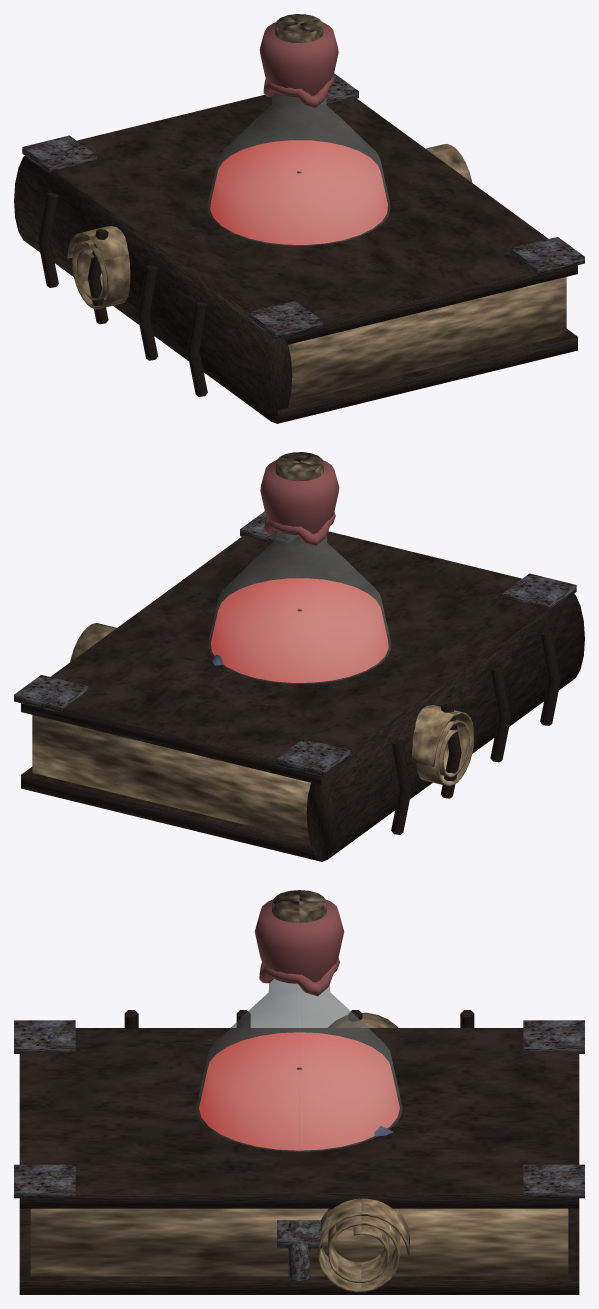
Rendered from items_misc.glb.
3 views of the same model, one above another, from view 1: azimuth 30°, elevation 25°; view 2: azimuth 150°, elevation 25°; view 3: azimuth 270°, elevation 25° (orthographic). The views are drawn at different scales.
Parts seen in each view (by area): view 1: misc_book, misc_potion, misc_manapotion, misc_portal; view 2: misc_book, misc_potion, misc_manapotion, misc_portal; view 3: misc_book, misc_potion, misc_manapotion, misc_portal.
Boxes of the visible parts, x1,y1,x2,y2 form: misc_book: [14, 73, 584, 423]; misc_potion: [208, 22, 389, 245]; misc_manapotion: [208, 14, 389, 245]; misc_portal: [67, 144, 472, 309]; misc_book: [14, 511, 584, 861]; misc_potion: [209, 460, 390, 683]; misc_manapotion: [209, 452, 390, 683]; misc_portal: [70, 623, 474, 786]; misc_book: [14, 1010, 584, 1294]; misc_potion: [197, 899, 401, 1151]; misc_manapotion: [197, 890, 401, 1151]; misc_portal: [317, 1012, 409, 1292].
Bounding box in the file's own units: 0.1722 × 0.122 × 0.204.
17 materials, 9 textured.
